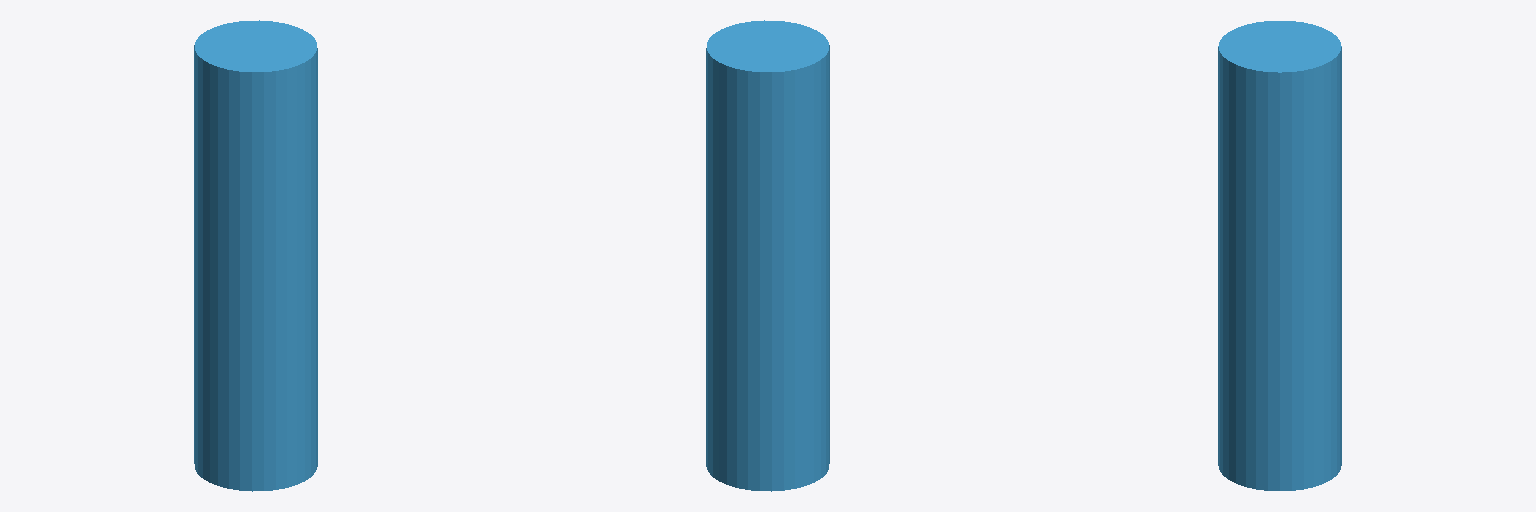
URDF robot description (igus_rebel):
<?xml version="1.0"?>
<robot name="igus_rebel" >

  <link name="world">
    <visual>
        <geometry>
          <mesh filename="package://rebel_test/meshes/test.dae" />
        </geometry>
    </visual>
    


  </link>

  <link name="base_link">
    <visual>
      <geometry>
        <cylinder radius="0.2" length="1.5"/>
       
      </geometry>
    </visual>
  </link>

  <joint name="world_joint" type="fixed">
    <parent link="world" />
    <child link = "base_link" />
    <origin xyz="0.0 0.0 0.0" rpy="0.0 0.0 0.0" />
  </joint>

</robot>

--- Facts derived from the render (not from the file) ---
The picture shows the robot from 3 angles, left to right: view 1: azimuth 30°, elevation 25°; view 2: azimuth 150°, elevation 25°; view 3: azimuth 270°, elevation 25°; orthographic projection.
Robot: igus_rebel — 2 links, 1 joints (1 fixed); root link world; default pose: all joints at 0.
Visible links, largest first — view 1: base_link; view 2: base_link; view 3: base_link.
Link boxes in pixels (box(x1,y1,x2,y2)): base_link: box(194, 20, 317, 491); base_link: box(706, 20, 829, 491); base_link: box(1218, 21, 1341, 490).
Bounding box of the posed robot: 0.4 × 0.4 × 1.5 m (x, y, z).
0 mesh visuals loaded from 1 distinct referenced files (none loaded); not drawn: 1 (reference not matched to a file when rendering).